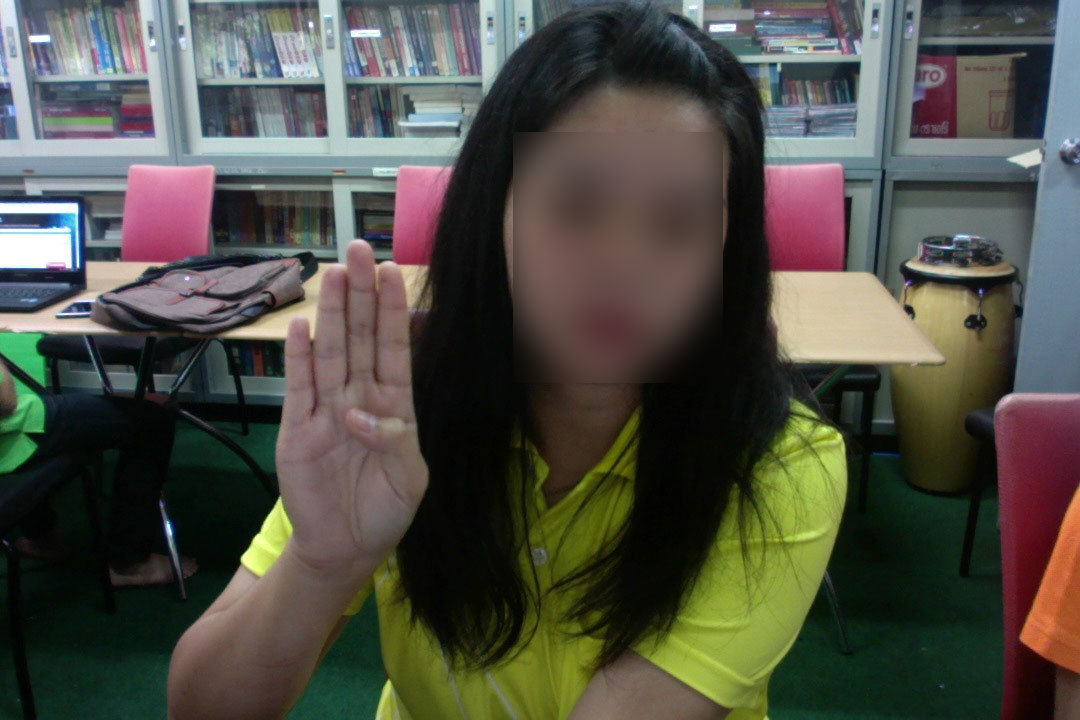bor: (270, 234, 435, 583)
